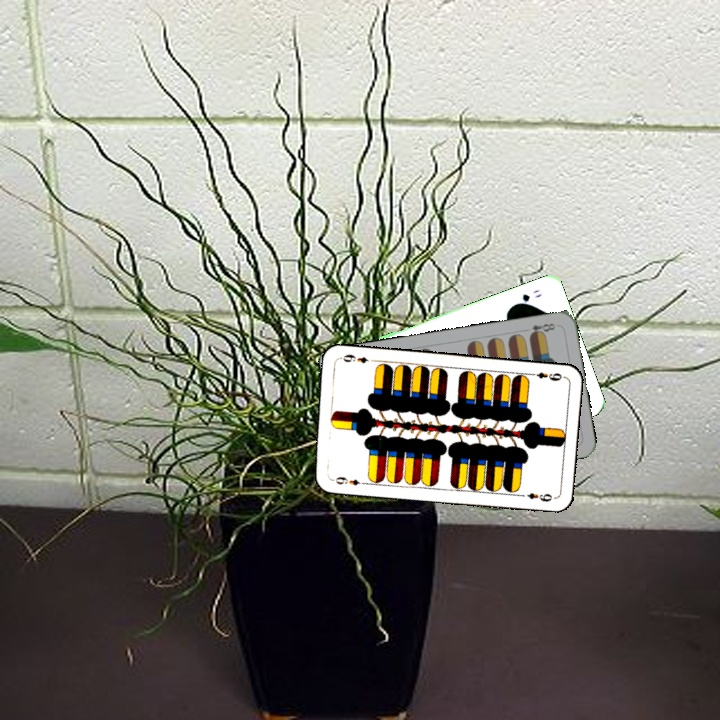E8: (520, 319, 558, 339)
E9: (327, 473, 368, 488), (526, 368, 564, 383)
GO: (509, 285, 545, 309)
